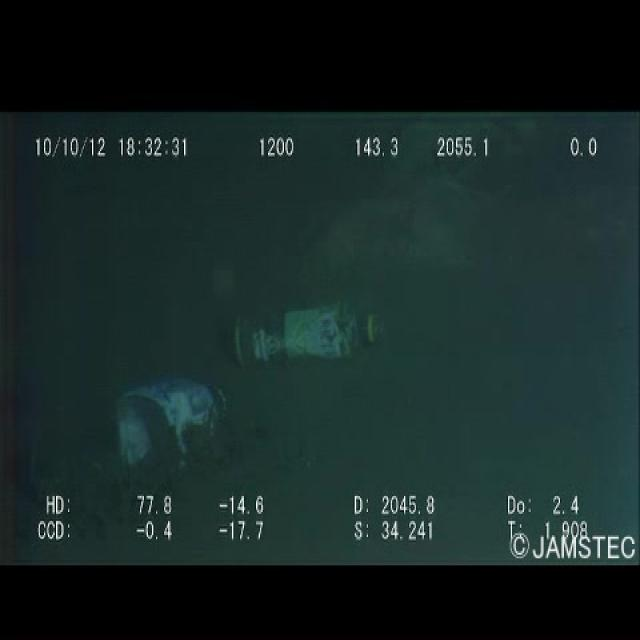plastic: (69, 343, 263, 468), (212, 284, 400, 380)
